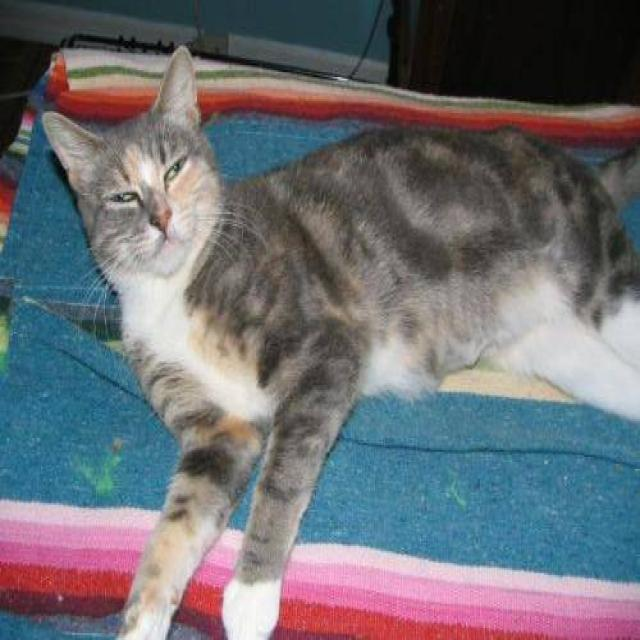cat: (38, 43, 639, 638)
